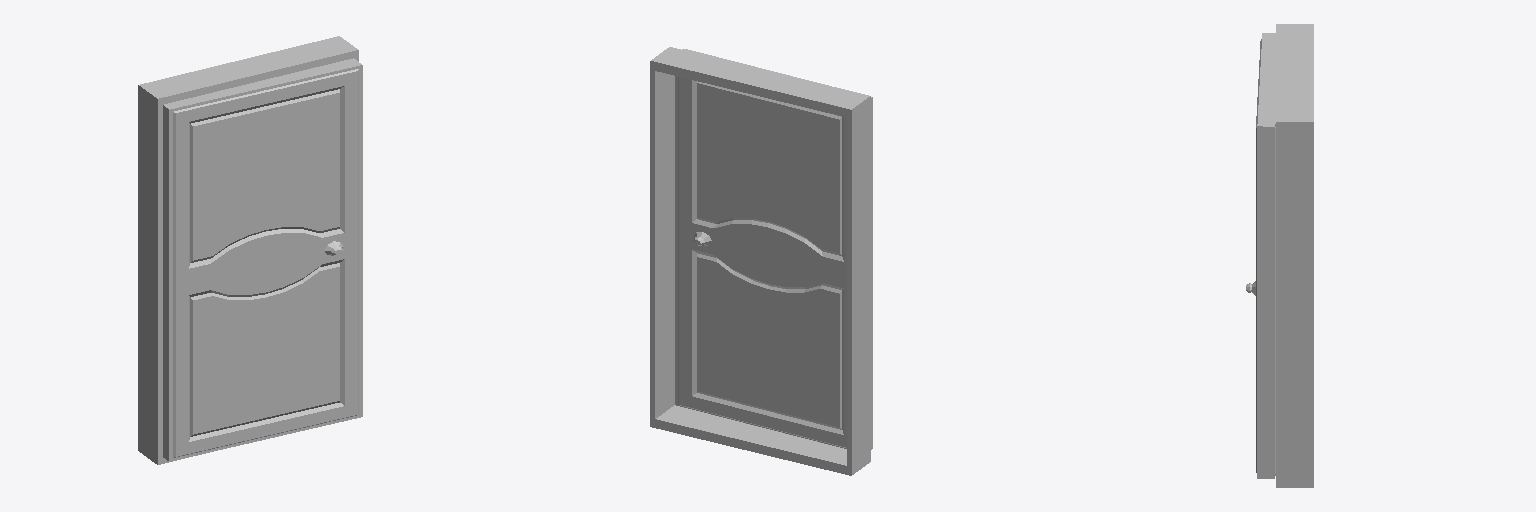
The model's file is drzwiok_000038.obj.
3 views of the same model, side by side, from view 1: azimuth 30°, elevation 25°; view 2: azimuth 150°, elevation 25°; view 3: azimuth 270°, elevation 25° (orthographic).
Parts seen in each view (by area): view 1: Door_4.001_Cube.001, Kostka; view 2: Door_4.001_Cube.001, Kostka; view 3: Kostka, Door_4.001_Cube.001.
Part boxes in pixels (bbox=[...]): Door_4.001_Cube.001: bbox=[163, 58, 362, 461]; Kostka: bbox=[138, 36, 358, 464]; Door_4.001_Cube.001: bbox=[675, 49, 872, 449]; Kostka: bbox=[650, 47, 870, 475]; Kostka: bbox=[1276, 24, 1313, 487]; Door_4.001_Cube.001: bbox=[1246, 33, 1275, 478].
Bounding box in the file's own units: 0.7416 × 1.29 × 0.217.